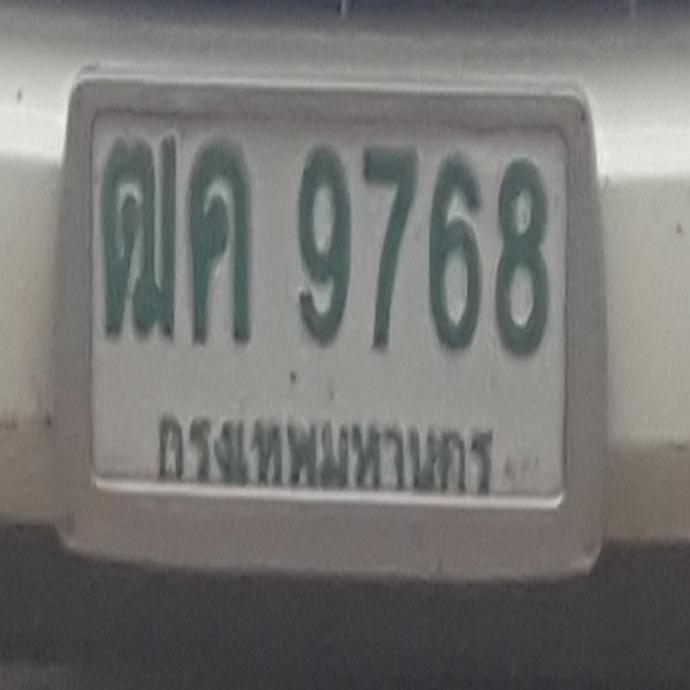6: (427, 152, 480, 352)
7: (359, 143, 414, 349)
8: (493, 156, 546, 356)
9: (296, 142, 348, 345)
A04: (187, 139, 250, 343)
A18: (100, 132, 175, 339)
BKK: (144, 393, 504, 512)
